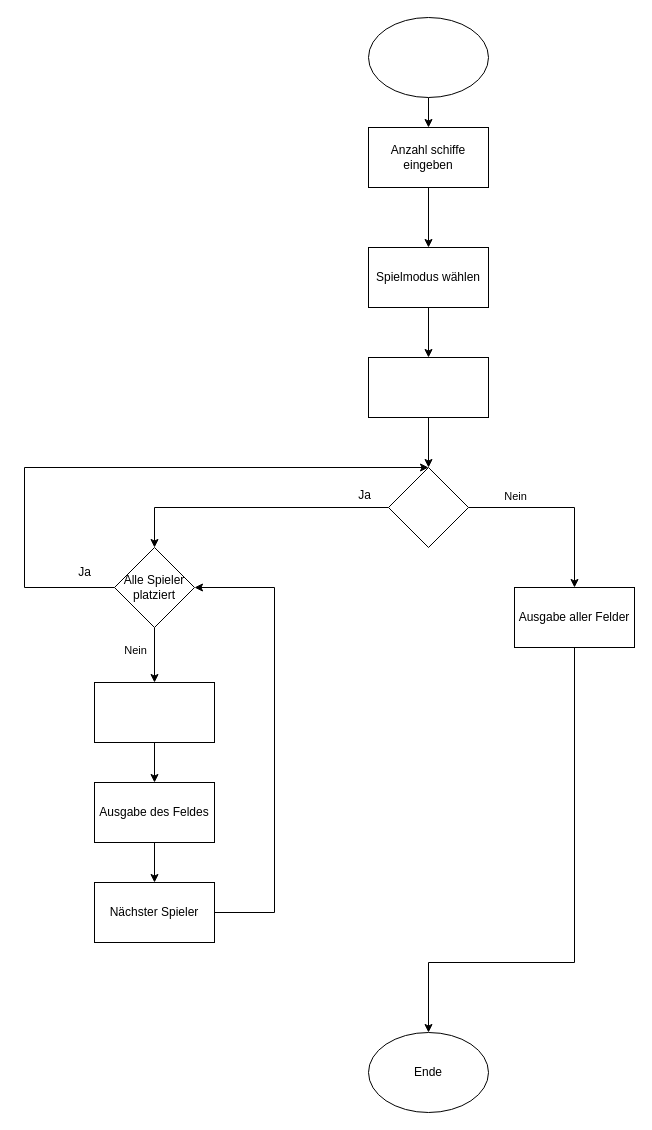
The diagram is 652 pixels wide and 1130 high, and some of its shapes have lost their labels. The shapes that lost their labels are listed below. From the top down, each one's centre as x and y in pixels, then its label:
At point 428,57: "Start".
At point 428,387: "Erstelle die Arrays für jeden Spieler".
At point 428,507: "Schiffe übrig?".
At point 154,712: "Spieler Platziert schiff".
